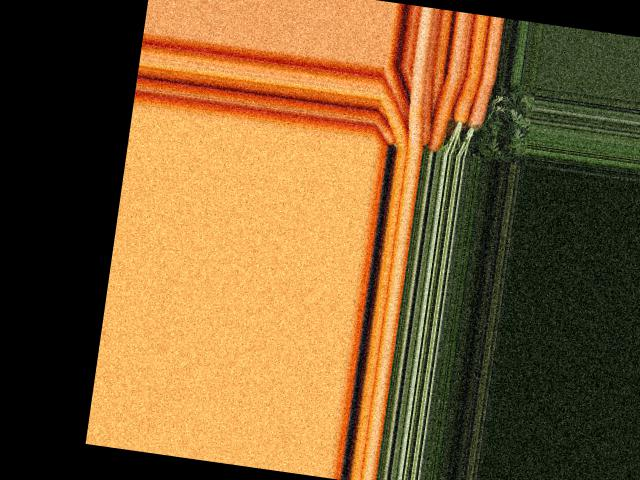carrot: (373, 82, 413, 147)
